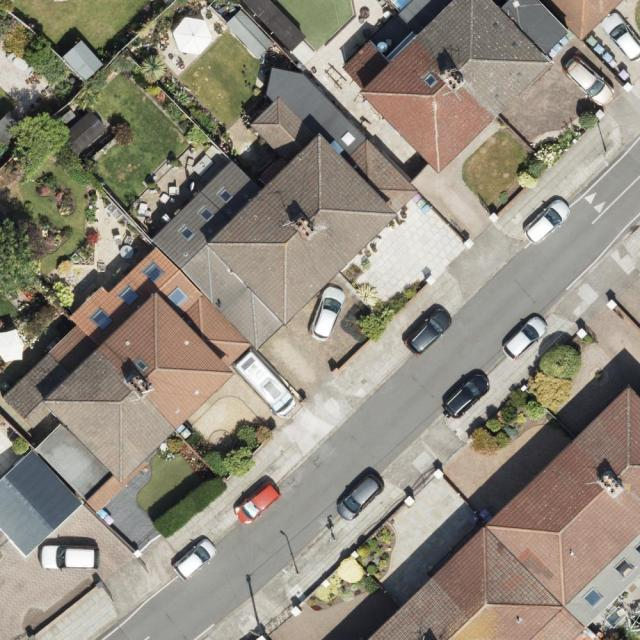roof: (0, 69, 422, 556), (370, 386, 640, 640), (344, 0, 625, 174)
skylight: (88, 307, 115, 331), (117, 284, 141, 307), (582, 588, 605, 610), (614, 556, 635, 579), (195, 203, 217, 223), (143, 263, 165, 282), (169, 286, 188, 307), (215, 186, 235, 204), (133, 356, 152, 374), (180, 223, 197, 243), (423, 73, 438, 89), (634, 543, 640, 554)
